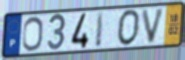3: (46, 12, 67, 54)
4: (70, 12, 91, 50)
I: (94, 11, 106, 50)
O: (117, 8, 142, 47), (21, 16, 44, 53)
V: (141, 6, 167, 45)
